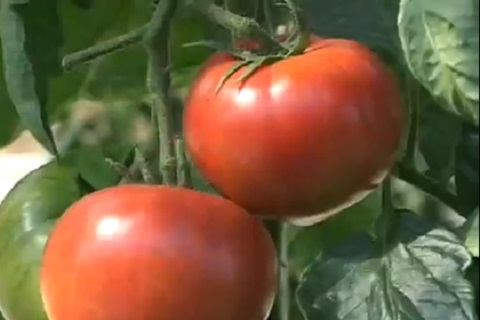stems: (183, 1, 281, 50), (152, 93, 177, 185)
tomato: (183, 35, 410, 214), (37, 183, 280, 320)
